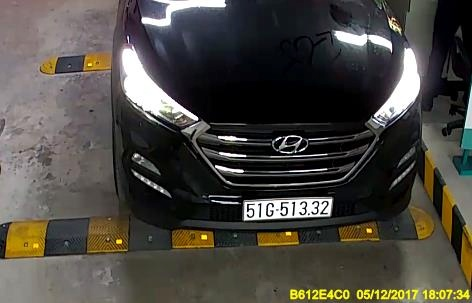plate: (242, 192, 341, 225)
